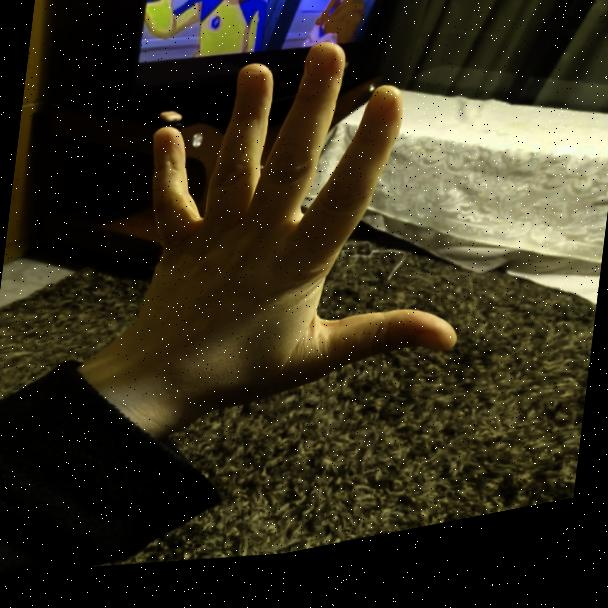five: (84, 10, 480, 451)
